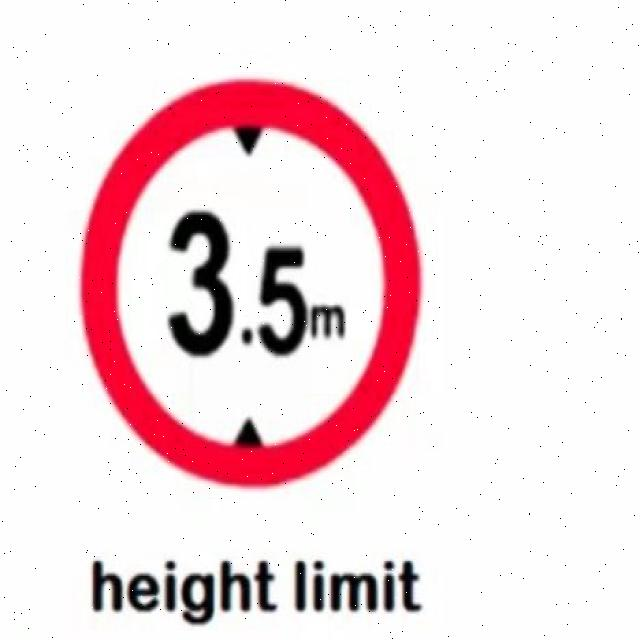height_limit: (82, 80, 421, 493)
